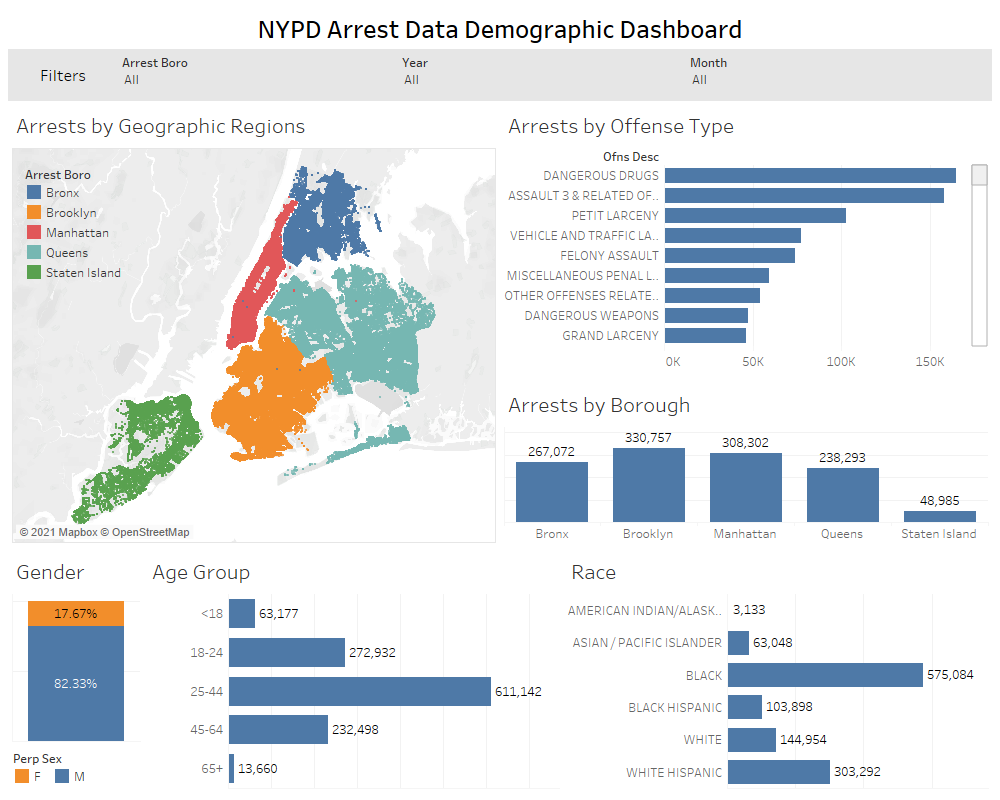

The page's visual inventory and layout, read from the dashboard file:
{"tool":"tableau","page":{"name":"NYPD Arrest Data Demographic Dashboard","canvas":[1000,800],"ordinal":0},"visuals":[{"type":"title","box":[8,8,984,41]},{"type":"text","box":[8,49,110,52]},{"type":"filter","title":"Arrests by Offense Type","param":"[federated.0u0g2jr0y9b0lh1fggo9v036ljvq].[none:ARREST_BORO:nk]","box":[118,49,280,52]},{"type":"filter","title":"Arrests by Offense Type","param":"[federated.0u0g2jr0y9b0lh1fggo9v036ljvq].[yr:ARREST_DATE:ok]","box":[398,49,288,52]},{"type":"filter","title":"Arrests by Offense Type","param":"[federated.0u0g2jr0y9b0lh1fggo9v036ljvq].[mn:ARREST_DATE:ok]","box":[686,49,306,52]},{"type":"worksheet","title":"Arrests by Borough","mark":"Automatic","rows":["Latitude"],"cols":["Longitude"],"box":[8,101,492,445.8]},{"type":"worksheet","title":"Arrests by Offense Type","mark":"Automatic","rows":["OFNS_DESC"],"cols":["ARREST_DATE"],"box":[500,101,492,445.8]},{"type":"legend","title":"Arrests by Borough","param":"[federated.0u0g2jr0y9b0lh1fggo9v036ljvq].[none:ARREST_BORO:nk]","box":[29,164,140,118]},{"type":"worksheet","title":"Gender","mark":"Automatic","rows":["ARREST_DATE"],"box":[8,546.8,136,197.5]},{"type":"worksheet","title":"Age Group","mark":"Automatic","rows":["AGE_GROUP"],"cols":["ARREST_DATE"],"box":[144,546.8,419,245.2]},{"type":"worksheet","title":"Race","mark":"Automatic","rows":["PERP_RACE"],"cols":["ARREST_DATE"],"box":[563,546.8,429,245.2]},{"type":"legend","title":"Gender","param":"[federated.0u0g2jr0y9b0lh1fggo9v036ljvq].[none:PERP_SEX:nk]","box":[8,744.4,136,47.6]}]}

Visuals, with their boxes in screenshot pixels (x1, y1, x2, y2), scaled from the page's 1000x800 canvas onto the 1000x800 screenshot:
title: [8, 8, 992, 49]
text: [8, 49, 118, 101]
"Arrests by Offense Type" filter: [118, 49, 398, 101]
"Arrests by Offense Type" filter: [398, 49, 686, 101]
"Arrests by Offense Type" filter: [686, 49, 992, 101]
"Arrests by Borough" worksheet: [8, 101, 500, 547]
"Arrests by Offense Type" worksheet: [500, 101, 992, 547]
"Arrests by Borough" legend: [29, 164, 169, 282]
"Gender" worksheet: [8, 547, 144, 744]
"Age Group" worksheet: [144, 547, 563, 792]
"Race" worksheet: [563, 547, 992, 792]
"Gender" legend: [8, 744, 144, 792]
